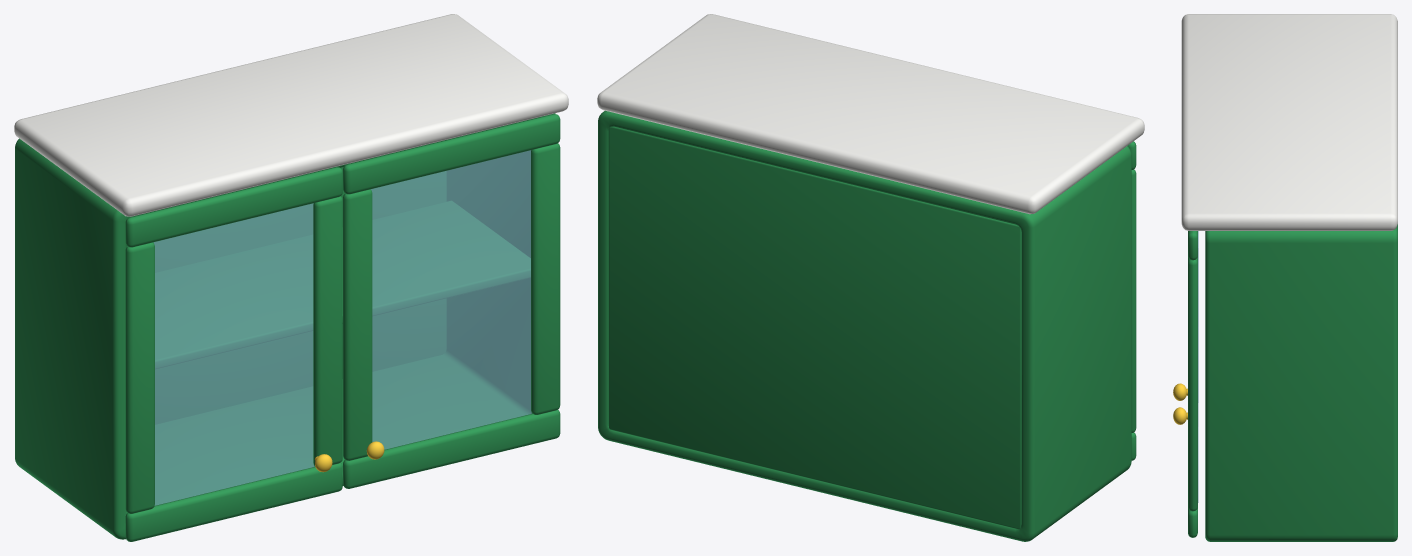
File: armario_parede_vidro_verde.glb
3 views of the same model, side by side, from view 1: azimuth 30°, elevation 25°; view 2: azimuth 150°, elevation 25°; view 3: azimuth 270°, elevation 25° (orthographic). The views are drawn at different scales.
Visible parts, largest first — view 1: armario_parede_vidro_verde, porta_1, porta_2; view 2: armario_parede_vidro_verde, porta_1; view 3: armario_parede_vidro_verde, porta_2, porta_1.
Boxes of the visible parts, x1,y1,x2,y2 form: armario_parede_vidro_verde: [14, 14, 568, 539]; porta_1: [125, 167, 342, 541]; porta_2: [343, 114, 560, 488]; armario_parede_vidro_verde: [597, 14, 1144, 541]; porta_1: [1127, 141, 1136, 460]; armario_parede_vidro_verde: [1181, 14, 1397, 541]; porta_2: [1173, 231, 1198, 537]; porta_1: [1173, 231, 1198, 402].
Size of the model in its own units: 0.798 by 0.6 by 0.37.
2 materials, 1 textured.
